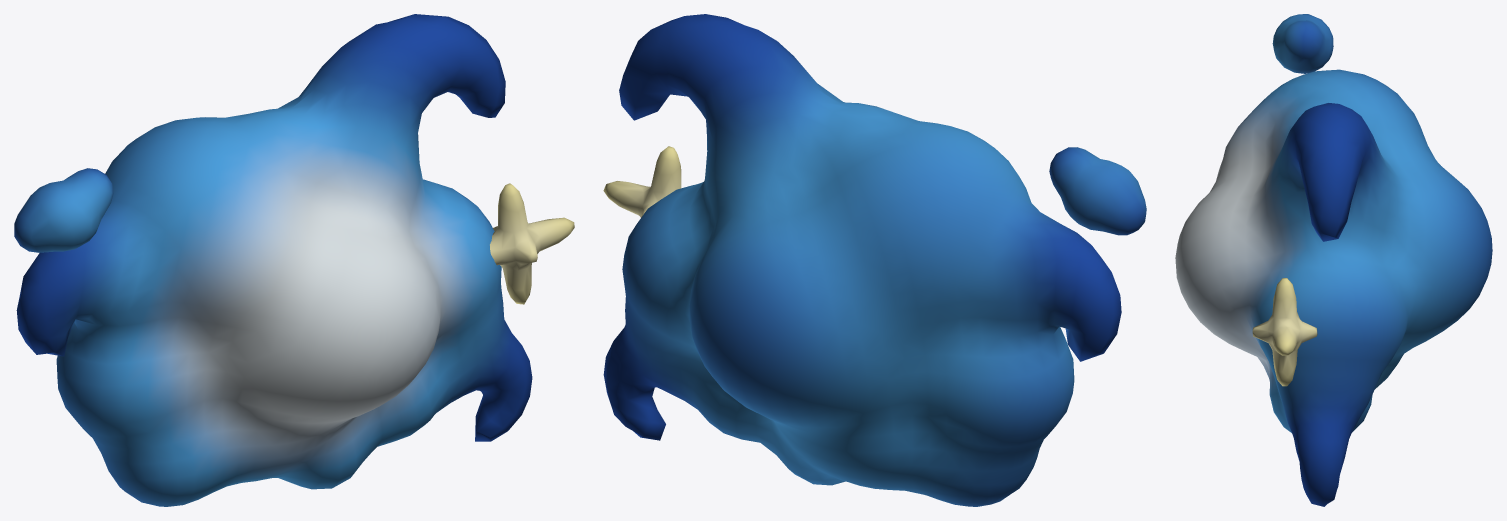
The model's file is Wisp.glb.
3 renders of one model, left to right at view 1: azimuth 30°, elevation 25°; view 2: azimuth 150°, elevation 25°; view 3: azimuth 270°, elevation 25°, orthographic. The views are drawn at different scales.
Parts seen in each view (by area): view 1: Wisp, Puffling, Sparkle; view 2: Wisp, Puffling, Sparkle; view 3: Wisp, Sparkle, Puffling.
Part boxes in pixels (x1,y1,x2,y2): Wisp: [16, 14, 532, 506]; Puffling: [14, 168, 113, 252]; Sparkle: [490, 183, 574, 304]; Wisp: [603, 14, 1121, 506]; Puffling: [1049, 147, 1146, 235]; Sparkle: [603, 146, 681, 217]; Wisp: [1175, 69, 1492, 506]; Sparkle: [1252, 278, 1317, 386]; Puffling: [1272, 14, 1333, 73].
Bounding box in the file's own units: 0.5817 × 0.4454 × 0.3506.
